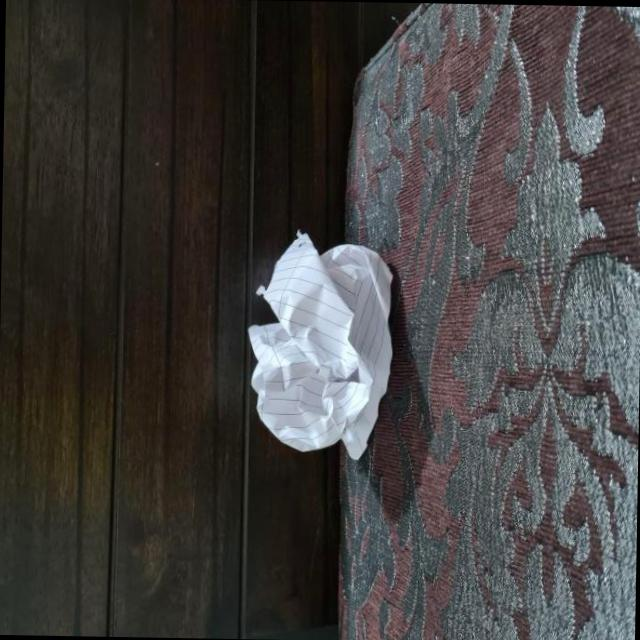cardboard paper: (247, 230, 390, 456)
